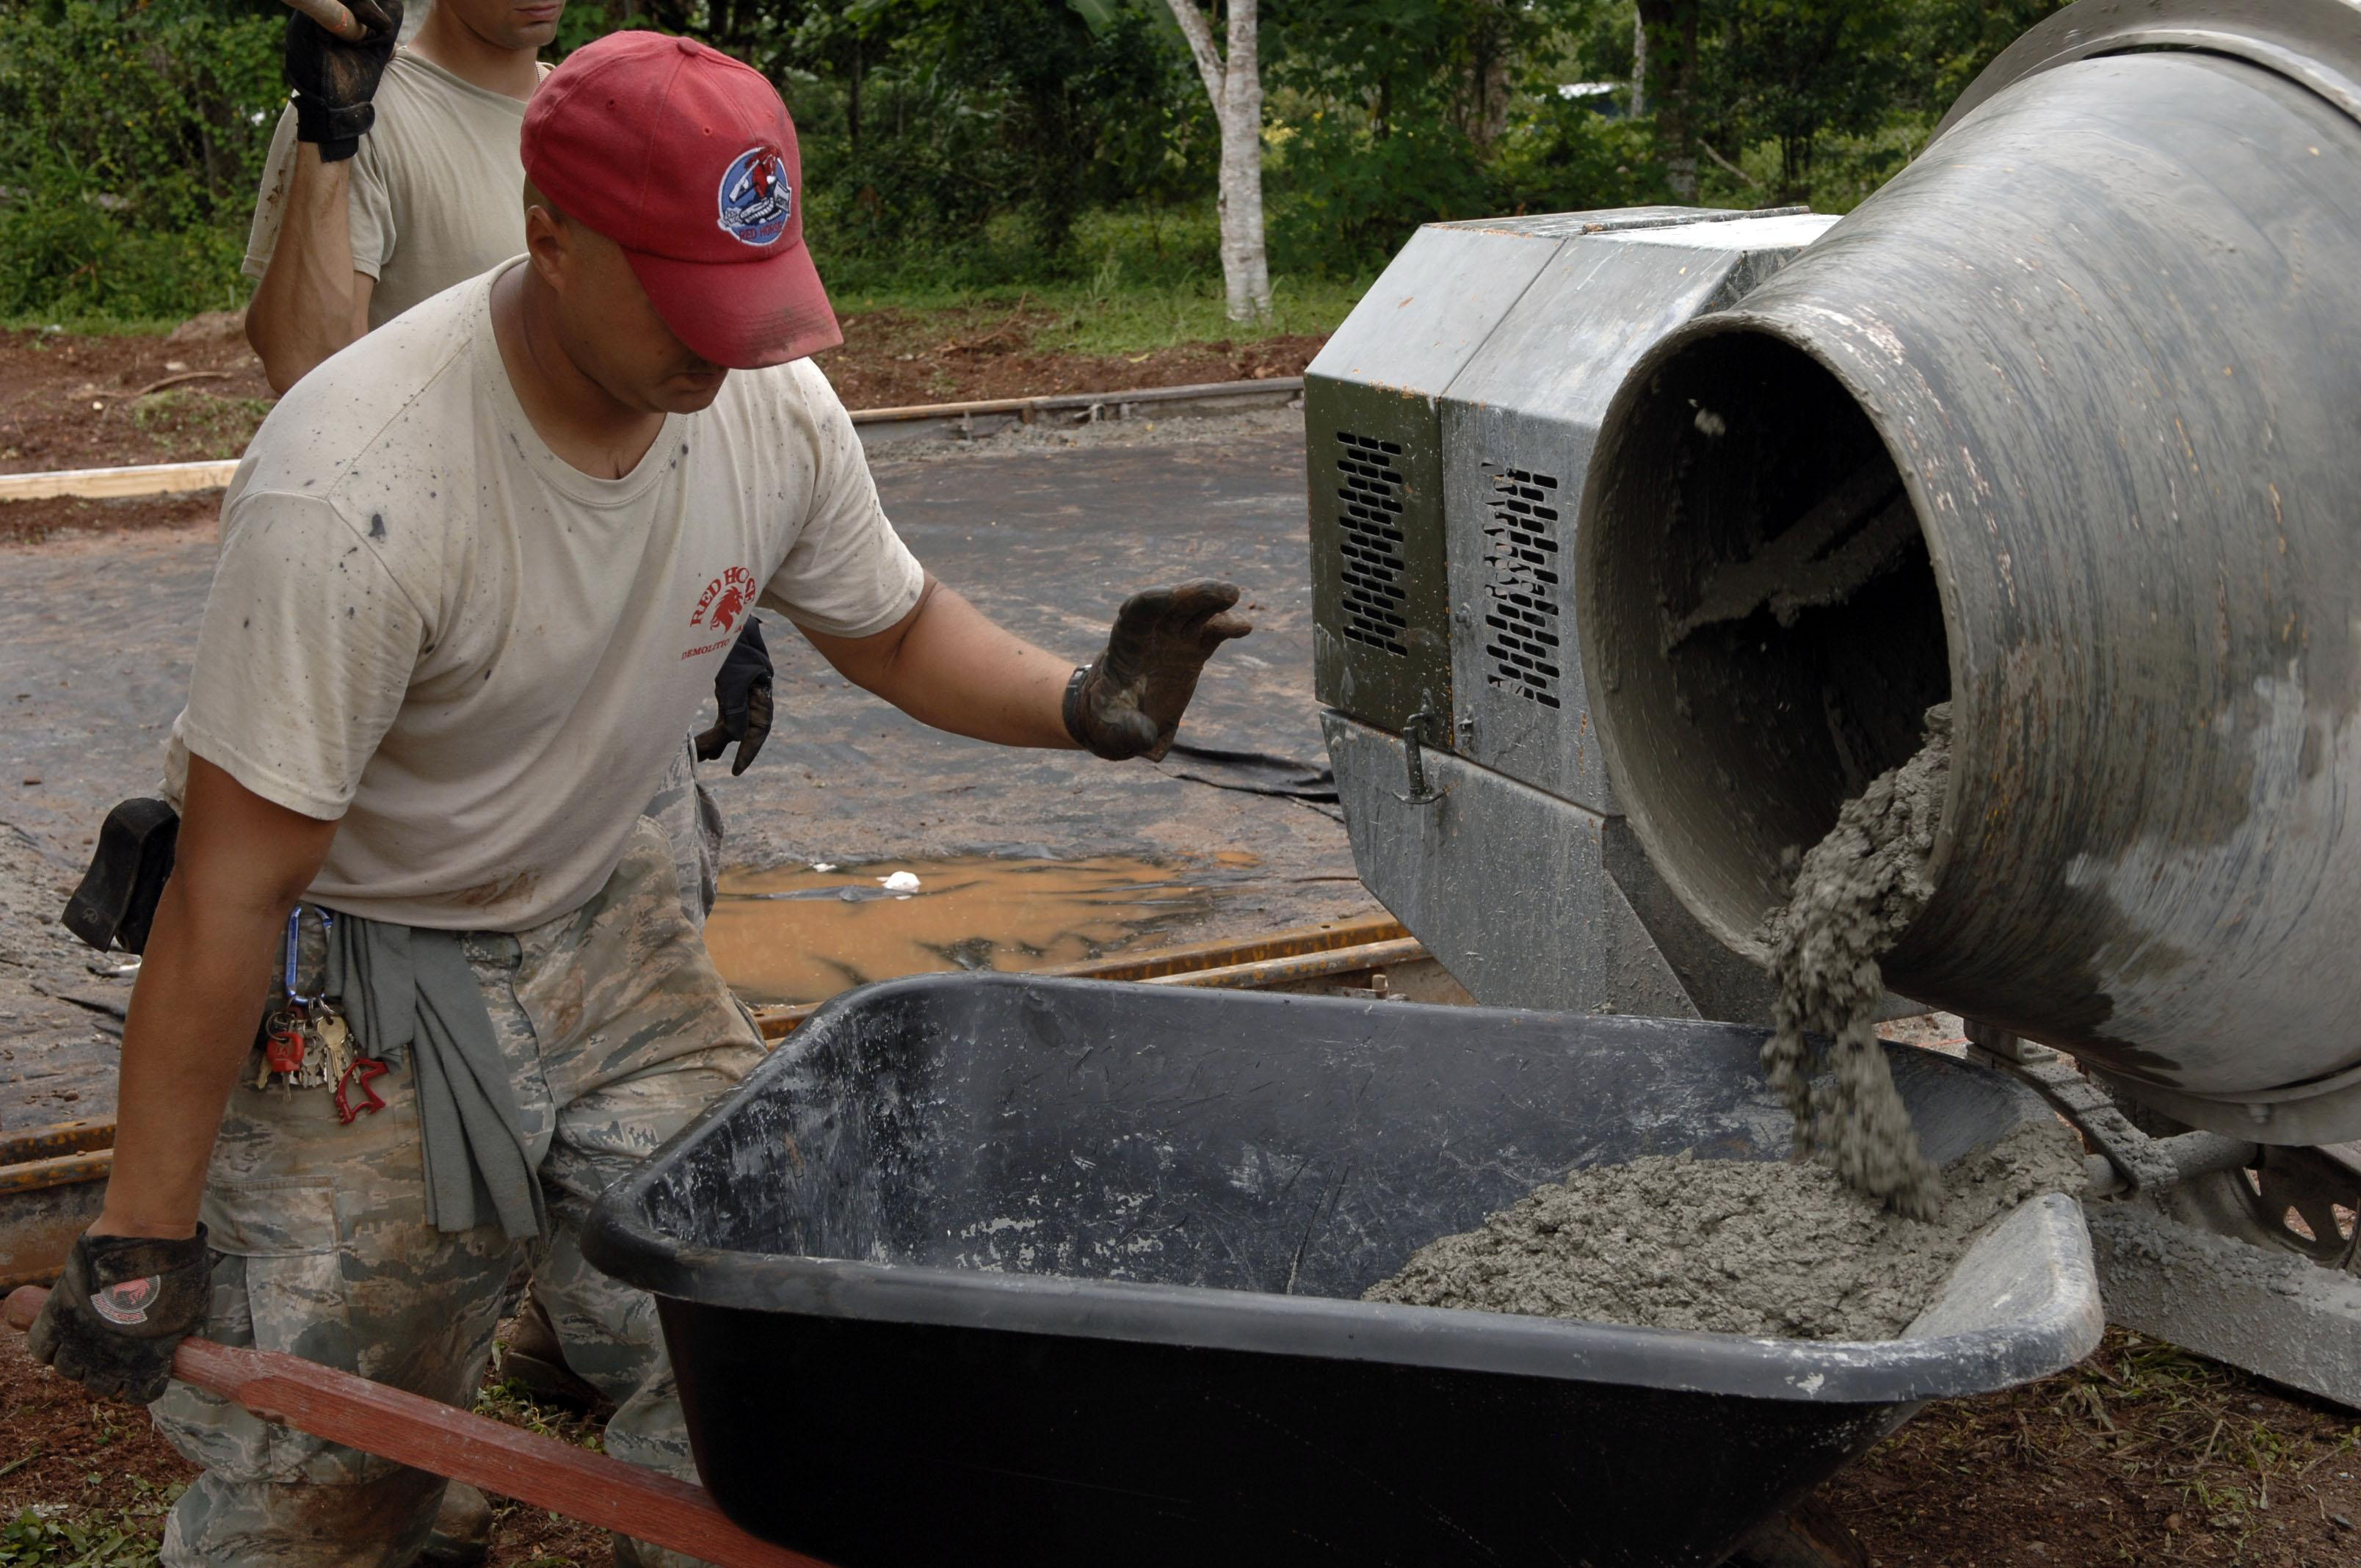Ear-protection: (146, 0, 904, 1530)
